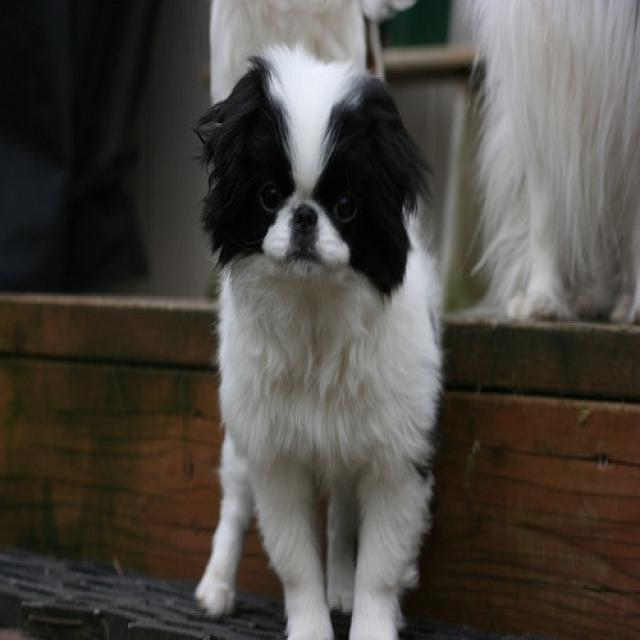dog-japanese_chin: (188, 27, 456, 636)
